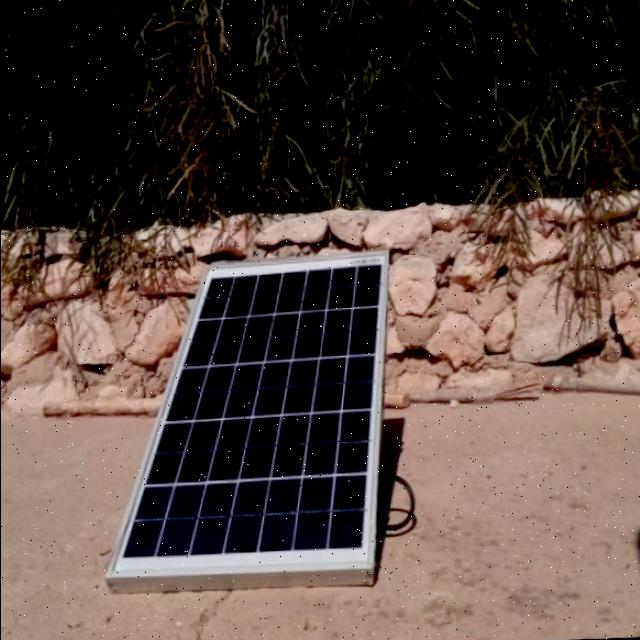Normal Solar Panel: (102, 250, 390, 586)
